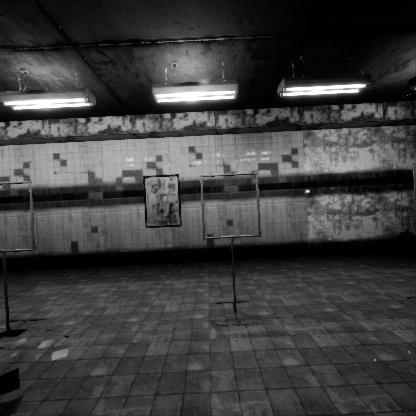gate: (200, 175, 266, 244)
